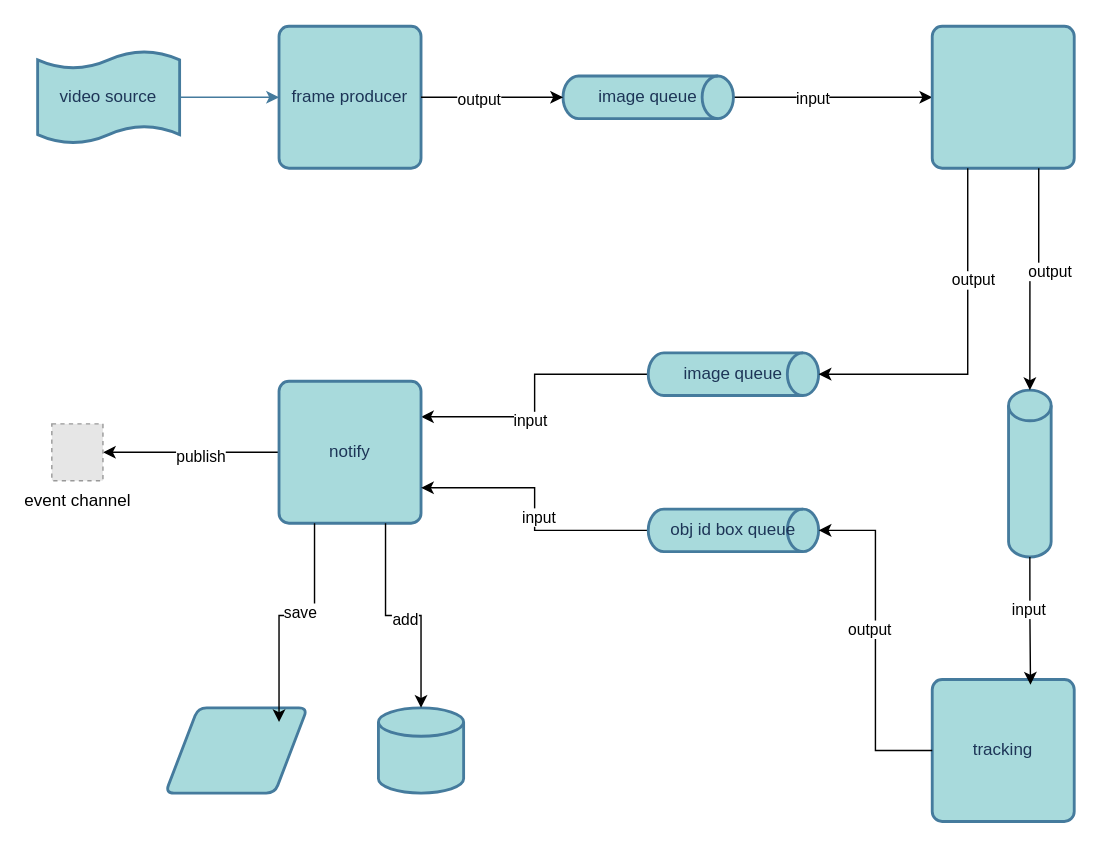
The diagram is 1101 pixels wide and 846 high, and some of its shapes have lost their labels. Grey dashed boxes stand in for pictures. The shapes that lost their labels are listed below. From the top down, each one's box as (x1, y1, x2, y2) in pixels, then its label:
(930, 24, 1075, 169): inference
(1006, 388, 1052, 558): detection queue
(163, 706, 308, 794): png or jpg
(376, 706, 464, 794): mongodb
